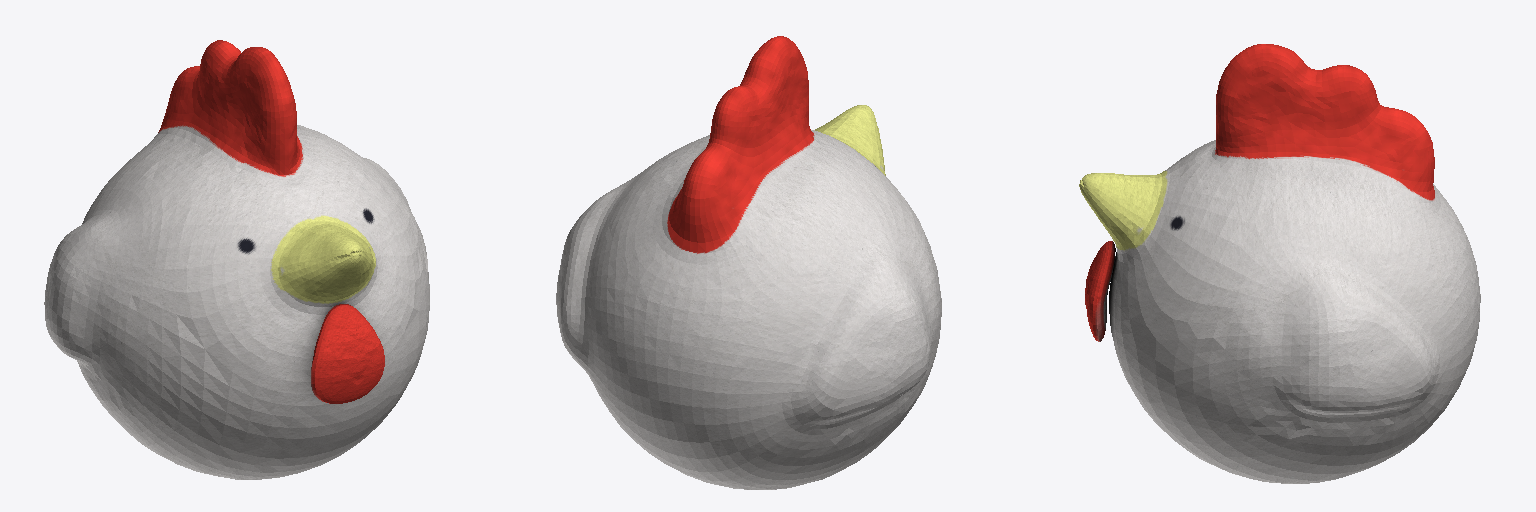
3 renders of one model, left to right at view 1: azimuth 30°, elevation 25°; view 2: azimuth 150°, elevation 25°; view 3: azimuth 270°, elevation 25°, orthographic.
Parts seen in each view (by area): view 1: Volume9, Volume80; view 2: Volume9; view 3: Volume9, Volume80.
Part boxes in pixels (x1,y1,x2,y2): Volume9: (44, 40, 429, 479); Volume80: (311, 304, 384, 403); Volume9: (556, 36, 941, 489); Volume9: (1079, 44, 1480, 483); Volume80: (1085, 241, 1115, 341).
Size of the model in its own units: 87.71 by 100 by 86.07.
1 materials, 1 textured.